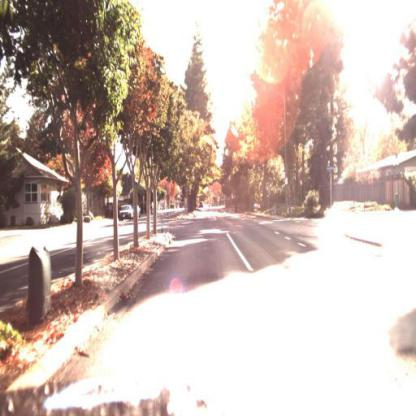car: (116, 195, 135, 227)
